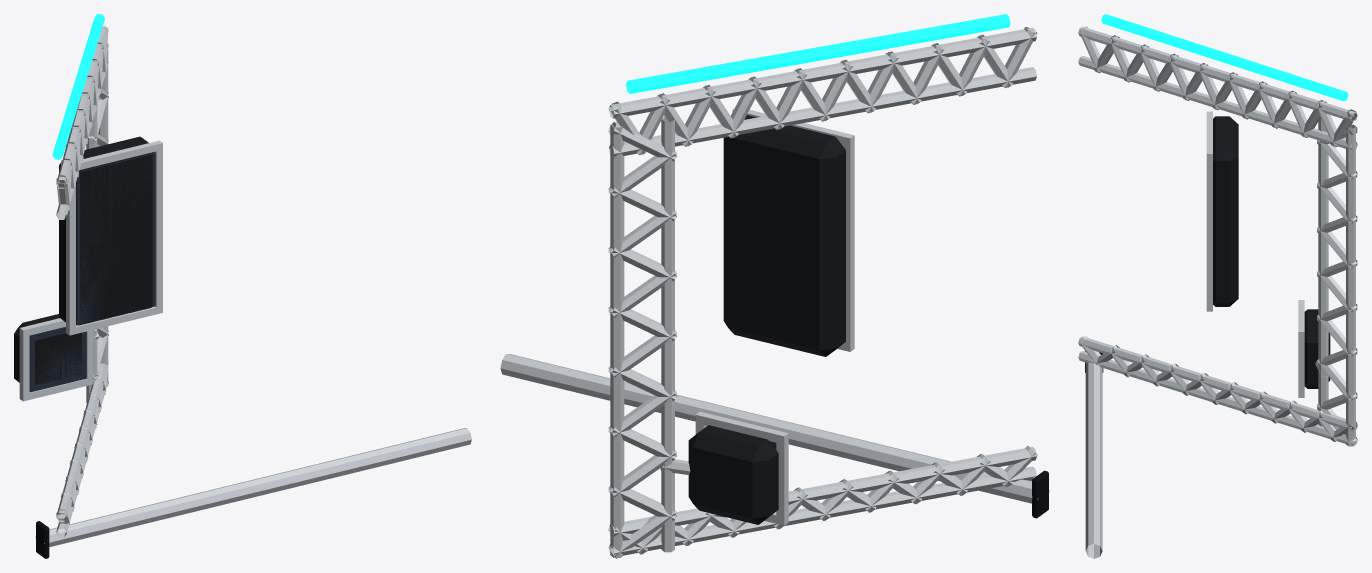
File: mirror_stay_grand.glb
3 renders of one model, left to right at view 1: azimuth 30°, elevation 25°; view 2: azimuth 150°, elevation 25°; view 3: azimuth 270°, elevation 25°, orthographic. The views are drawn at different scales.
Parts seen in each view (by area): view 1: mirror_stay_grand_deco_body, mirror_stay_grand_chrome, mirror_stay_grand_PADS_chrome, mirror_stay_grand_deco_mirror, mirror_stay_grand_deco_neon; view 2: mirror_stay_grand_chrome, mirror_stay_grand_deco_body, mirror_stay_grand_PADS_chrome, mirror_stay_grand_deco_neon, mirror_stay_grand_PADF_deco_trim; view 3: mirror_stay_grand_chrome, mirror_stay_grand_deco_body, mirror_stay_grand_PADS_chrome, mirror_stay_grand_deco_neon.
Part boxes in pixels (x1,y1,x2,y2): mirror_stay_grand_deco_body: (14,136,154,384); mirror_stay_grand_chrome: (19,26,162,537); mirror_stay_grand_PADS_chrome: (35,428,471,546); mirror_stay_grand_deco_mirror: (29,152,155,392); mirror_stay_grand_deco_neon: (52,14,104,159); mirror_stay_grand_chrome: (608,27,1037,558); mirror_stay_grand_deco_body: (688,115,845,524); mirror_stay_grand_PADS_chrome: (500,354,1049,503); mirror_stay_grand_deco_neon: (626,14,1010,93); mirror_stay_grand_PADF_deco_trim: (1032,470,1048,518); mirror_stay_grand_chrome: (1078,26,1357,446); mirror_stay_grand_deco_body: (1213,116,1330,388); mirror_stay_grand_PADS_chrome: (1085,362,1102,558); mirror_stay_grand_deco_neon: (1101,14,1348,101).
Bounding box in the file's own units: 1 × 0.8845 × 0.6095.
